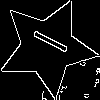I: (22, 22, 70, 56)
